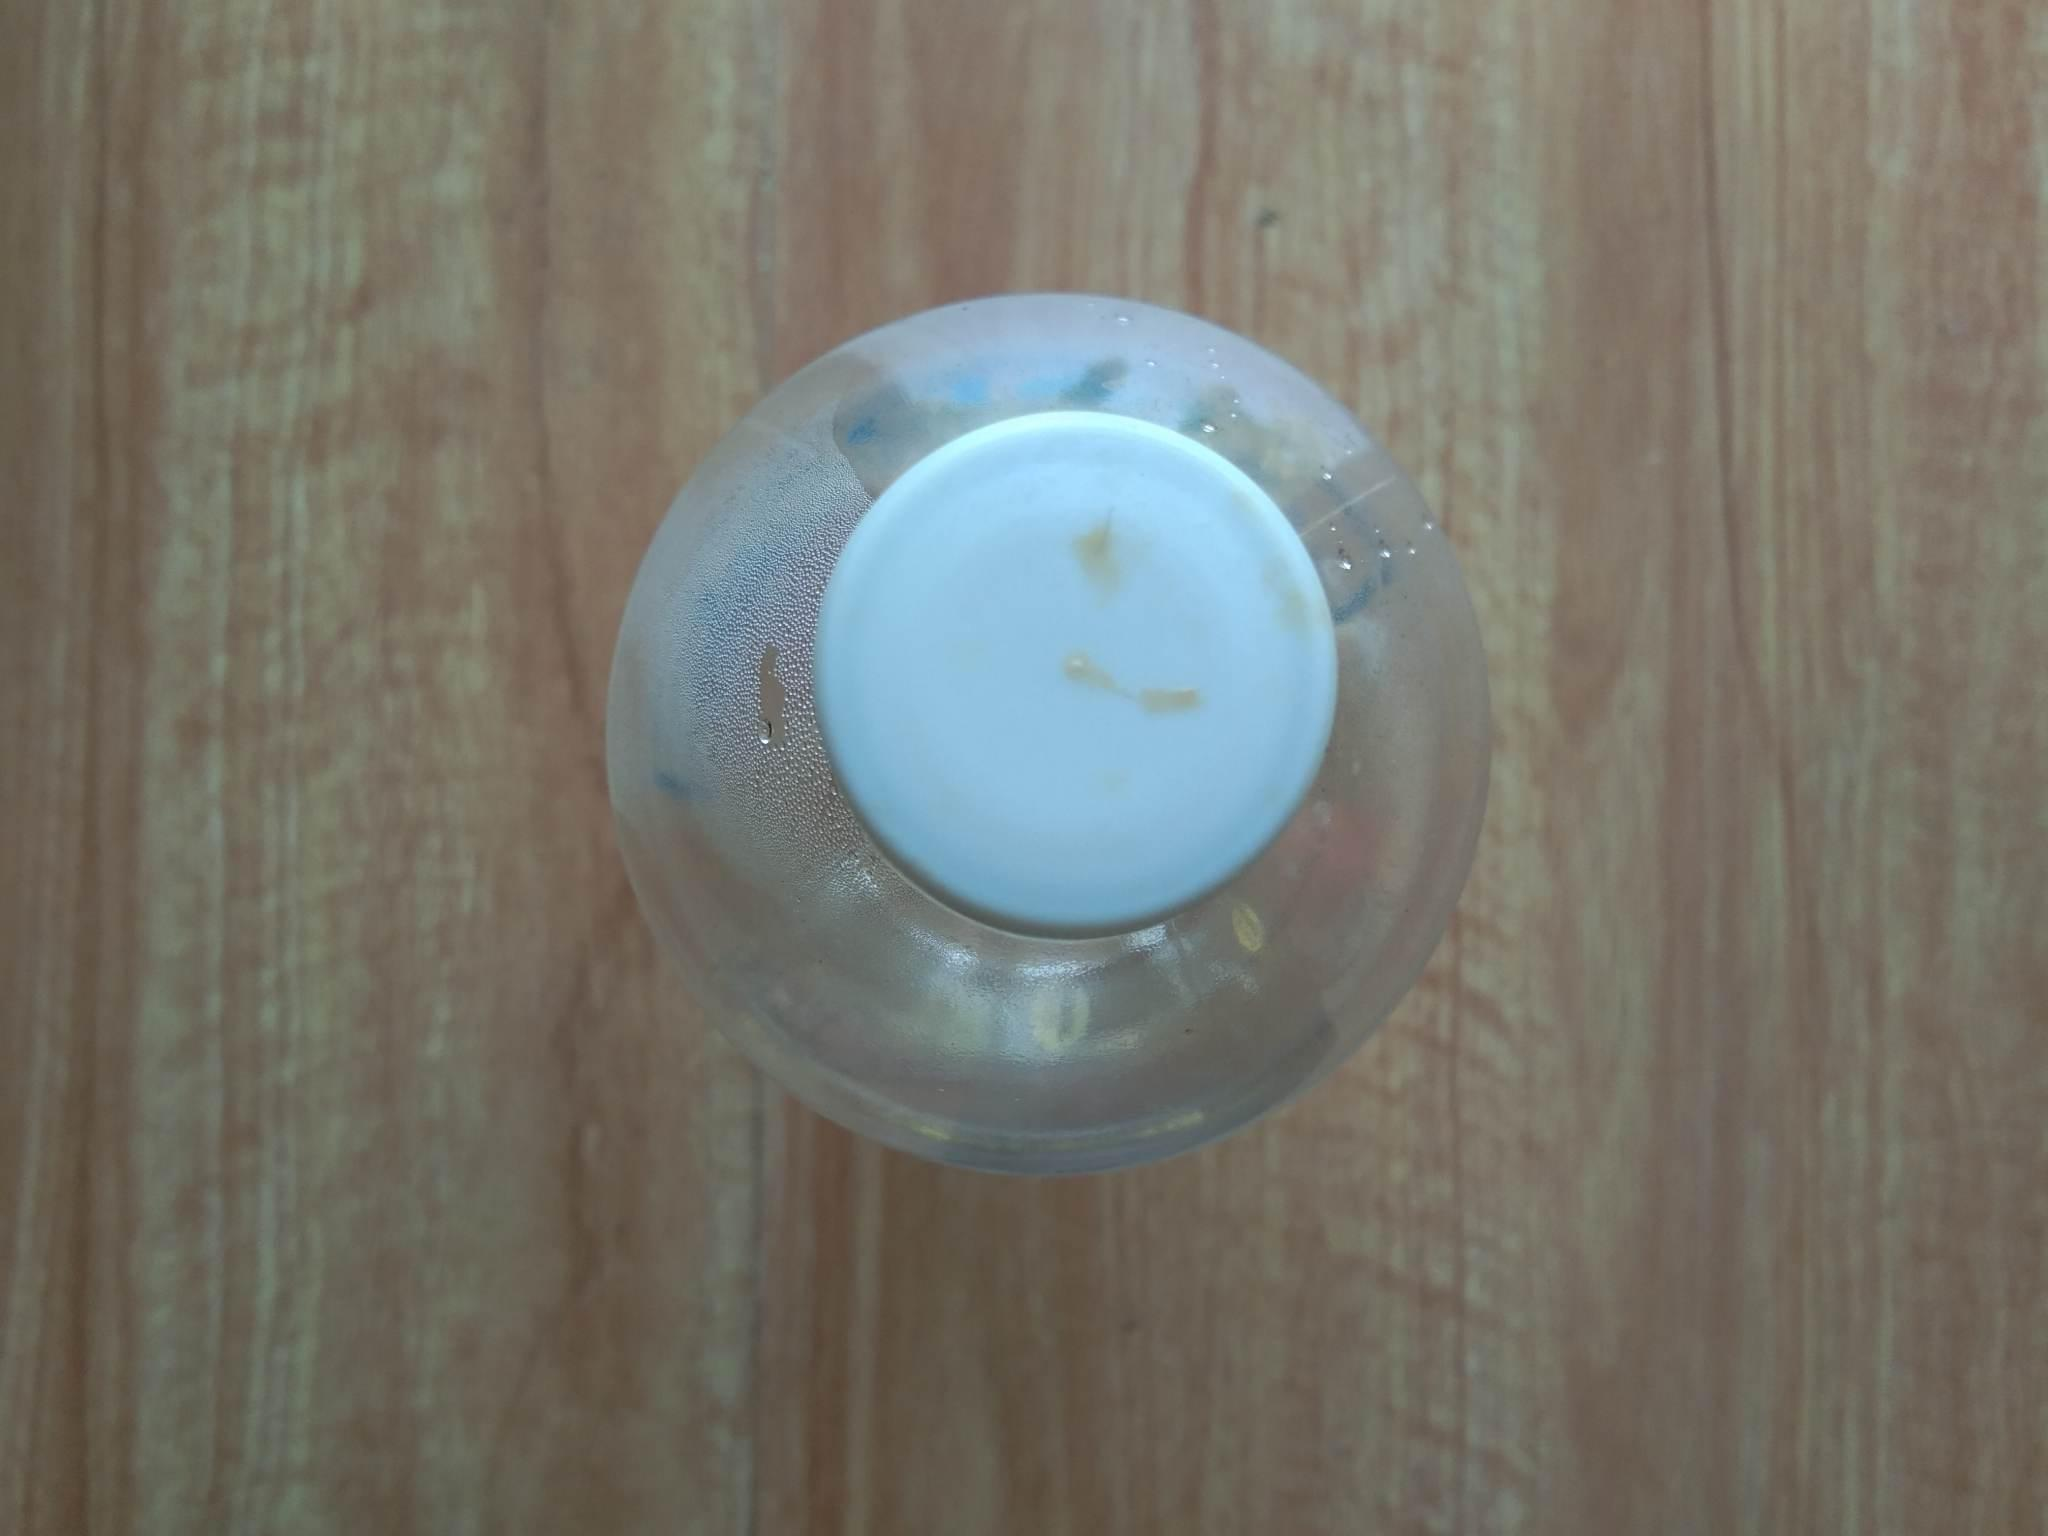plastic: (437, 247, 1732, 1267)
